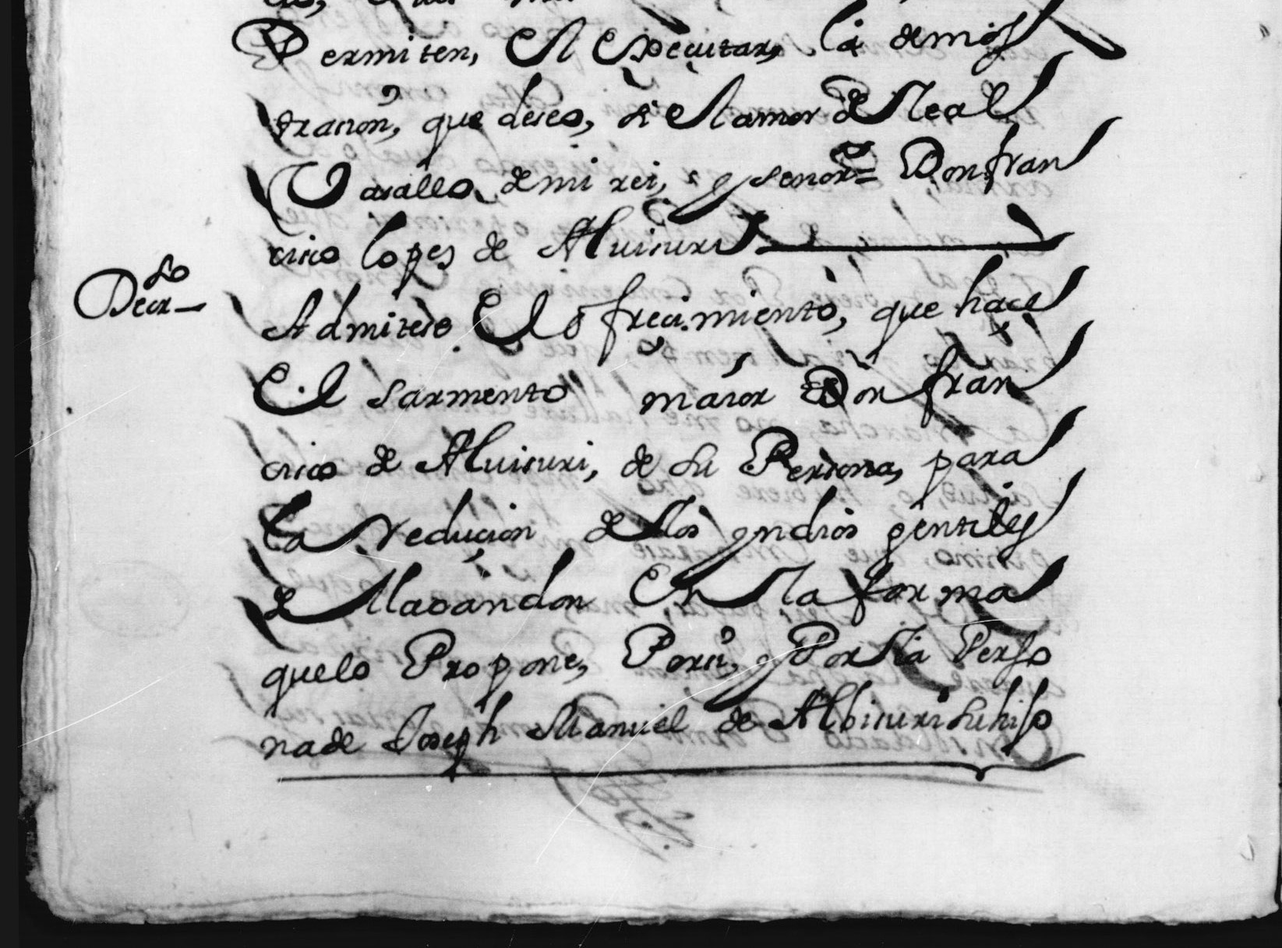lacandon: (386, 547, 596, 616)
